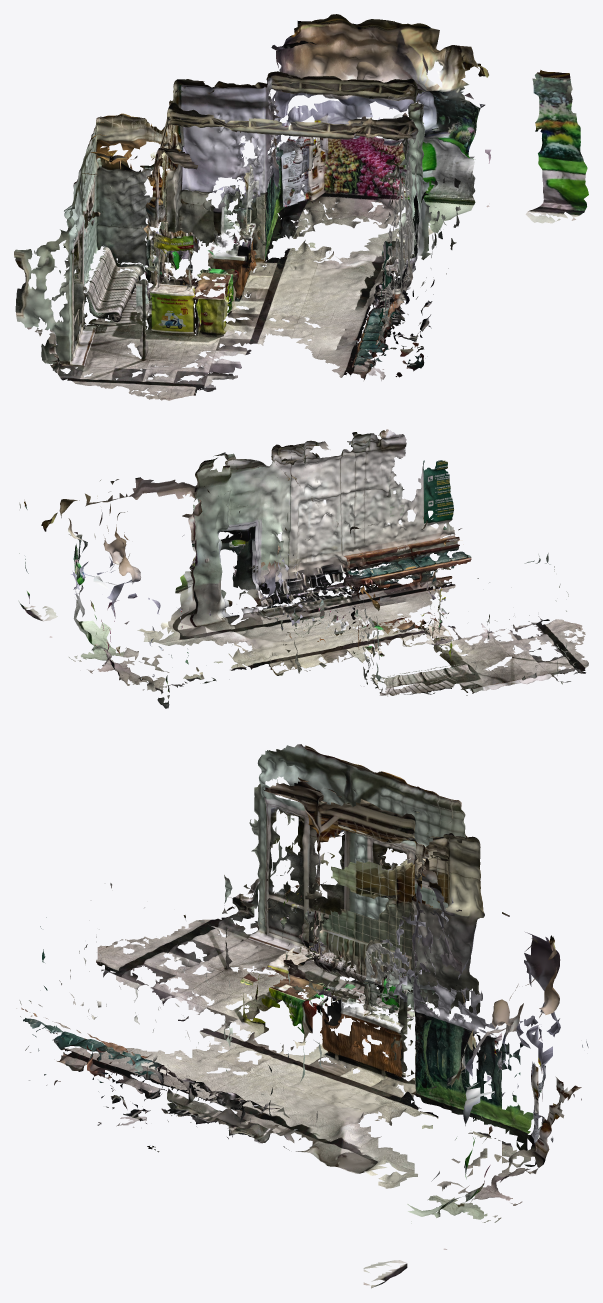
The model's file is 139852-yok-tex.glb.
3 renders of one model, top to bottom at view 1: azimuth 30°, elevation 25°; view 2: azimuth 150°, elevation 25°; view 3: azimuth 270°, elevation 25°, orthographic. The views are drawn at different scales.
Visible parts, largest first — view 1: Node; view 2: Node; view 3: Node.
Part boxes in pixels (x1,y1,x2,y2): Node: (14, 14, 588, 400); Node: (19, 429, 588, 708); Node: (16, 744, 588, 1288).
Bounding box in the file's own units: 12.62 × 4.32 × 8.52.
Materials: 18 (18 with a texture image).
